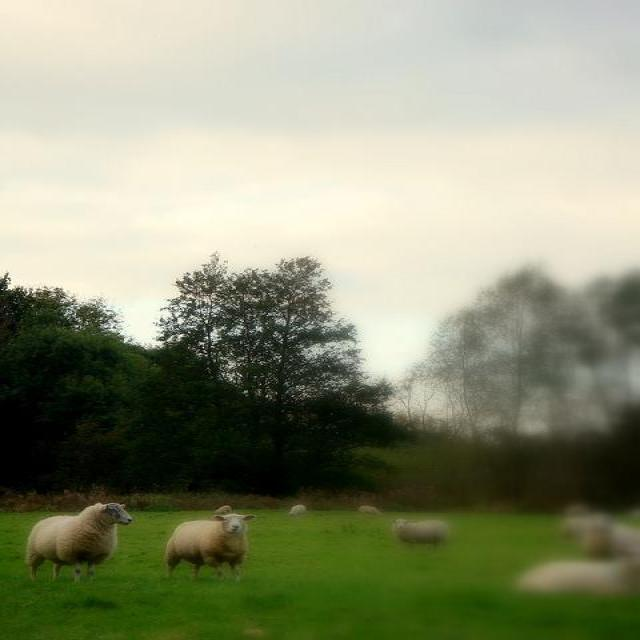Sheep: (28, 502, 135, 581), (165, 515, 251, 580), (517, 555, 639, 599), (560, 501, 639, 563)
